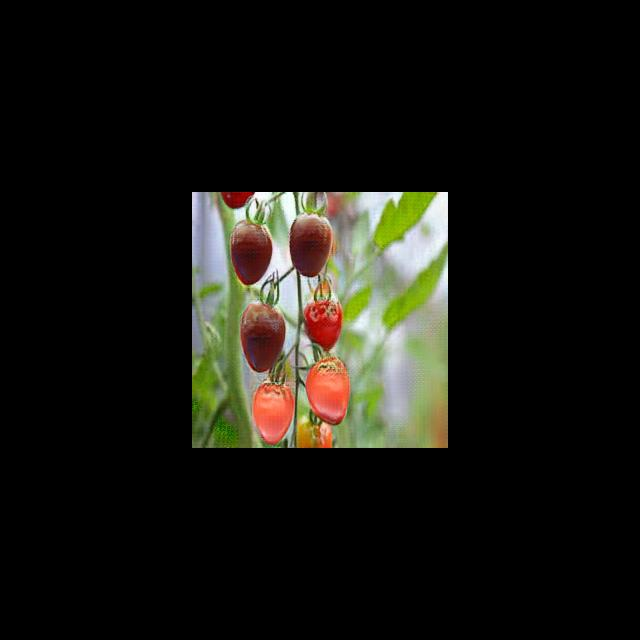tomato: (240, 303, 288, 372), (230, 218, 274, 288), (288, 212, 332, 273), (304, 296, 340, 351)
